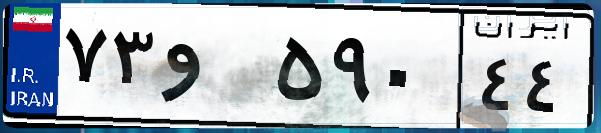0: (385, 28, 445, 110)
3: (110, 28, 158, 98)
4: (475, 38, 525, 113), (525, 38, 570, 115)
5: (270, 28, 330, 110)
7: (57, 26, 110, 100)
9: (330, 28, 385, 110)
و: (158, 20, 270, 120)
